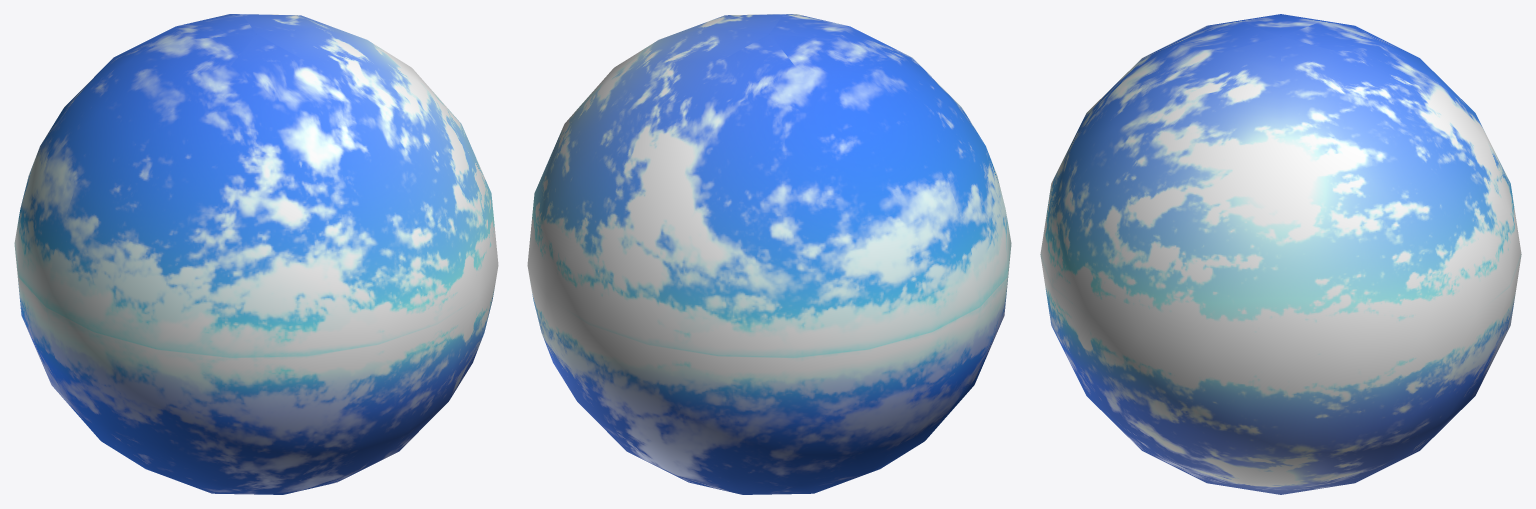
The model's file is SkyDoom.FBX.
The picture shows the model from 3 angles, left to right: view 1: azimuth 30°, elevation 25°; view 2: azimuth 150°, elevation 25°; view 3: azimuth 270°, elevation 25°; orthographic projection.
Parts seen in each view (by area): view 1: GeoSphere001; view 2: GeoSphere001; view 3: GeoSphere001.
Boxes of the visible parts, <box> form: GeoSphere001: <box>14,14,498,494</box>; GeoSphere001: <box>527,14,1011,494</box>; GeoSphere001: <box>1040,14,1521,494</box>.
Size of the model in its own units: 951 by 951 by 951.
1 material, 1 textured.
